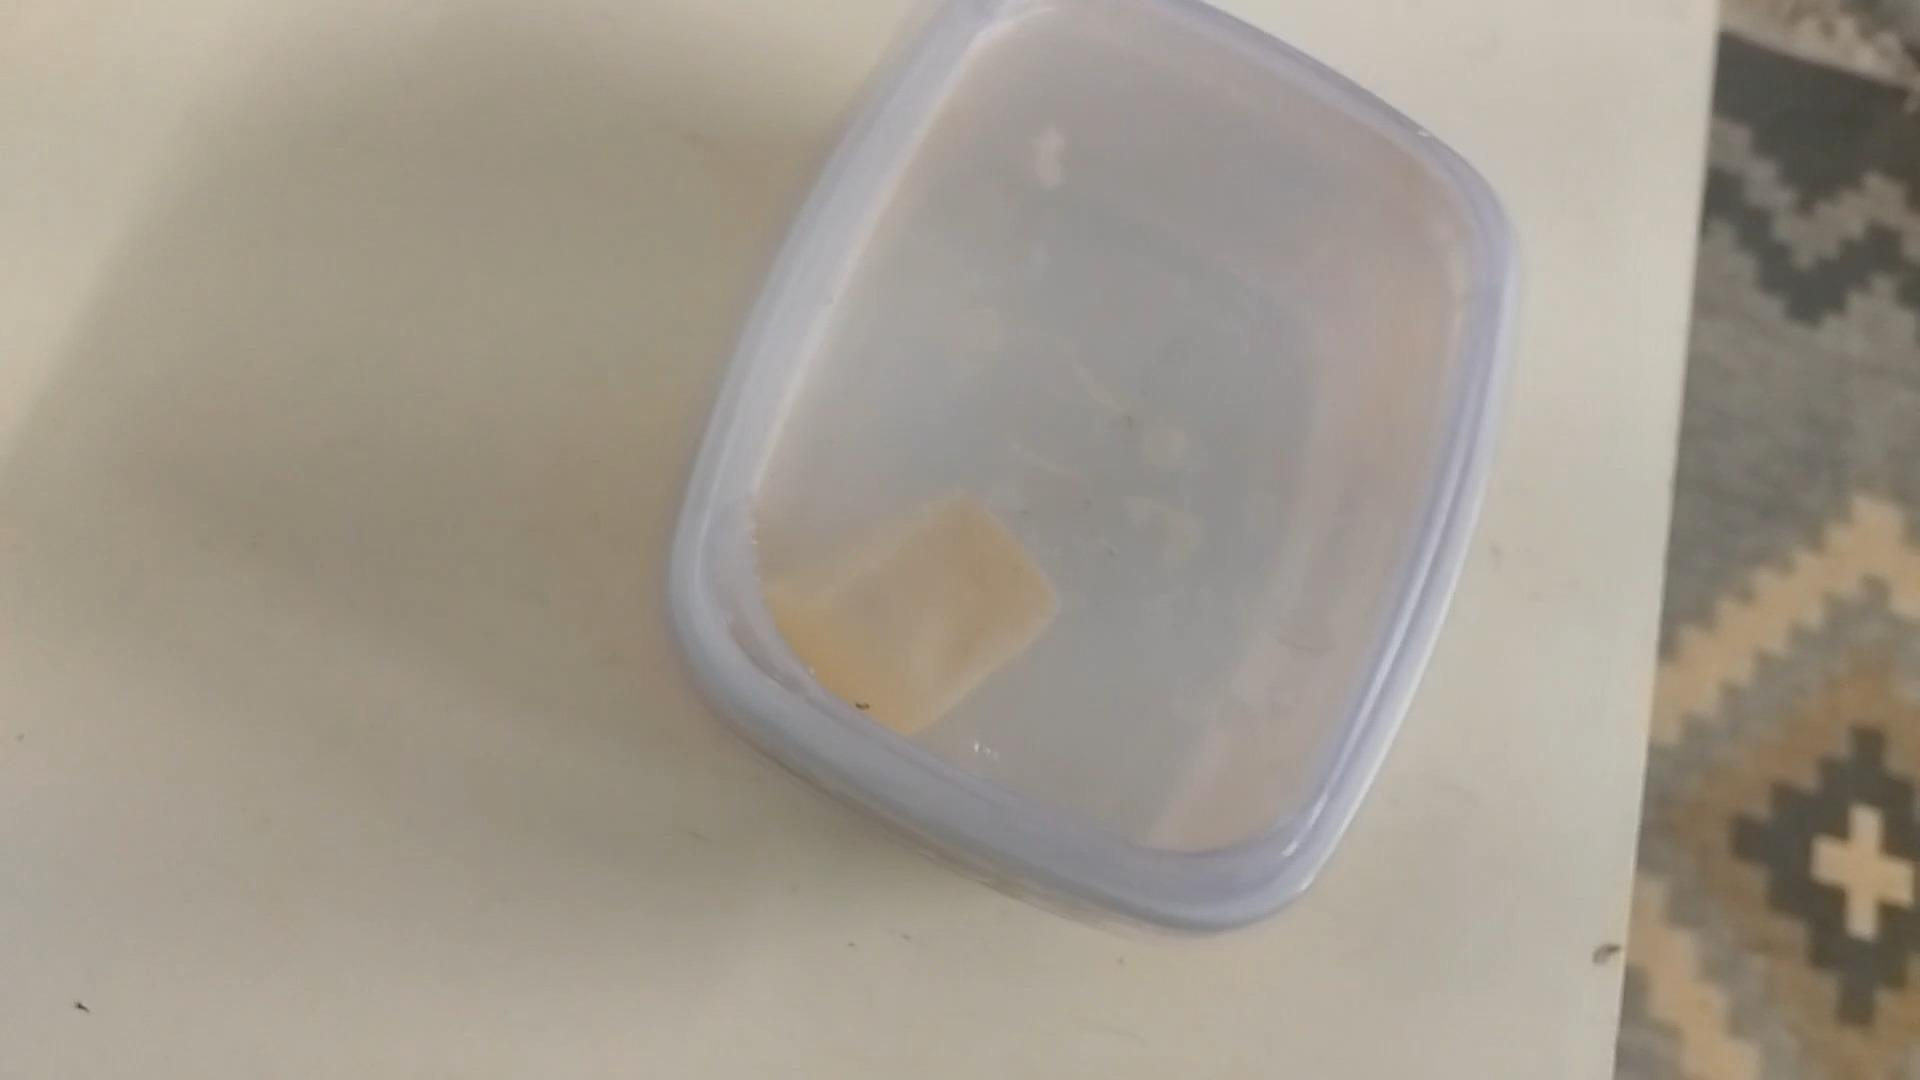butter: (665, 0, 1503, 935)
